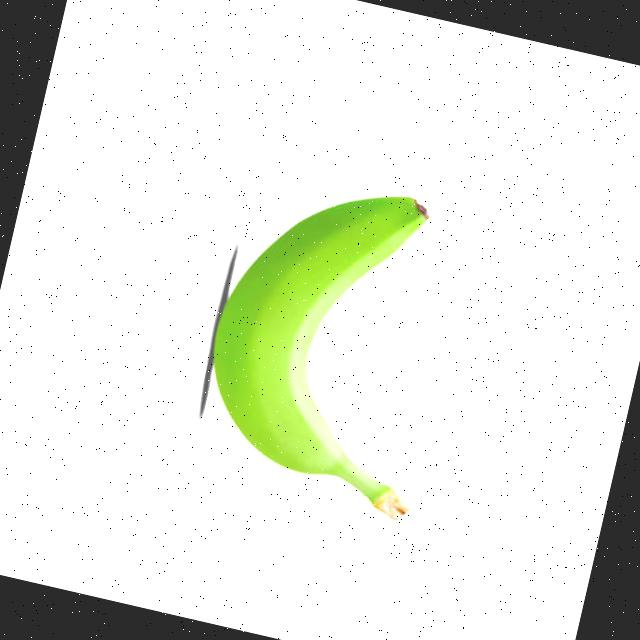banana: (182, 162, 480, 524)
